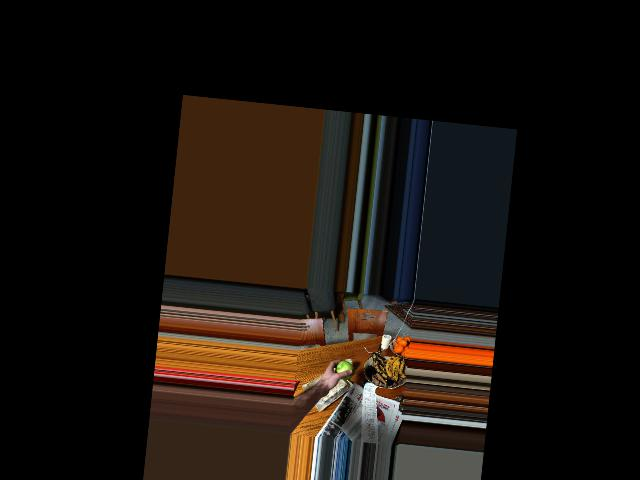apple: (331, 357, 355, 384)
